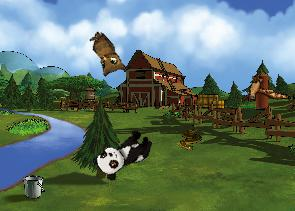eagle: (234, 66, 290, 115)
owl: (78, 29, 130, 82)
panda: (90, 123, 157, 184)
